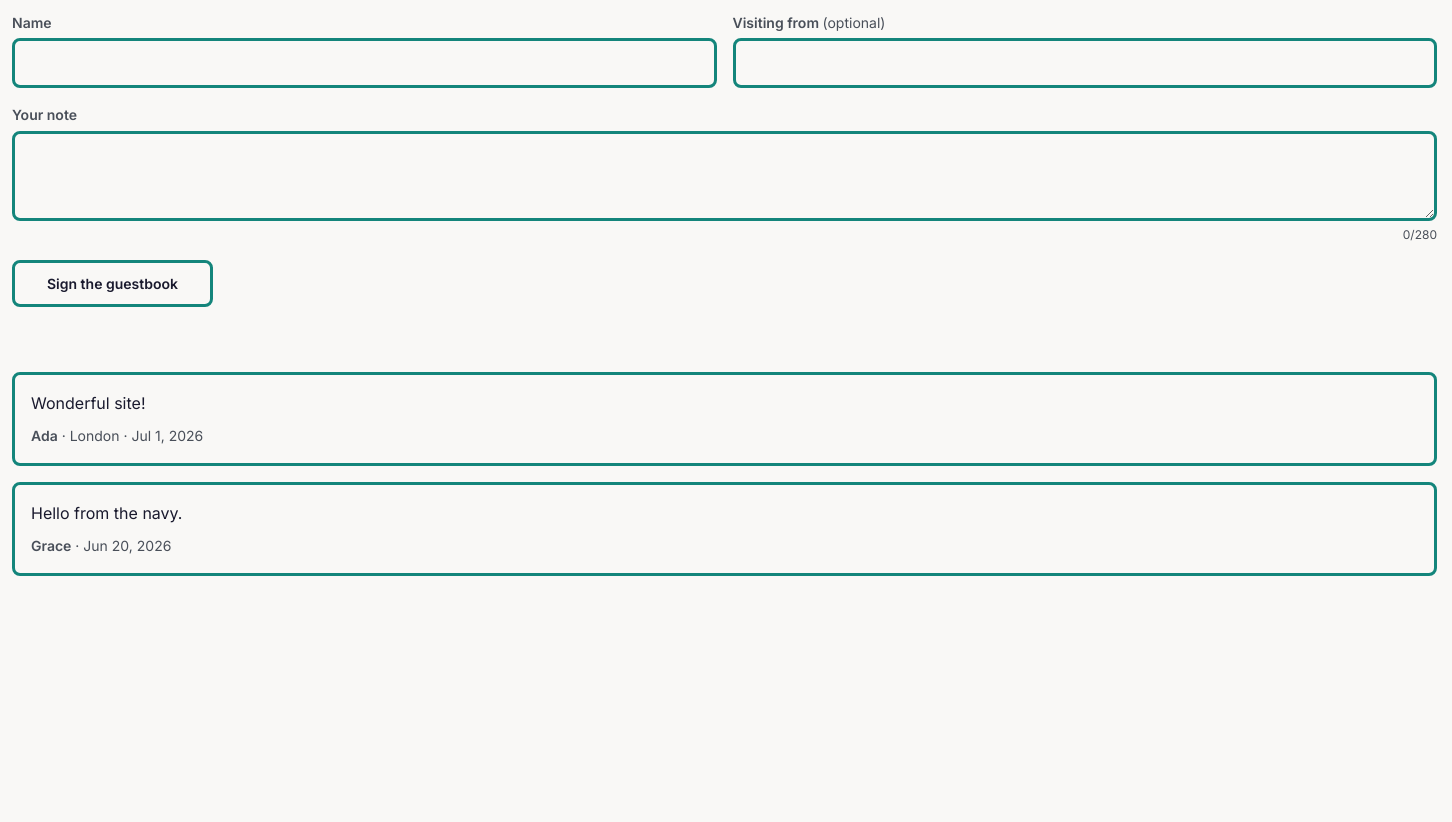
Guestbook › submits with the solved proof of work and an empty honeypot
Expected: the text "Wonderful site!" is shown, left=31, top=393, right=146, bottom=413
Step 1. Type "Paula Fan" into the field labelled "Name" → (364, 63), box left=12, top=38, right=716, bottom=88
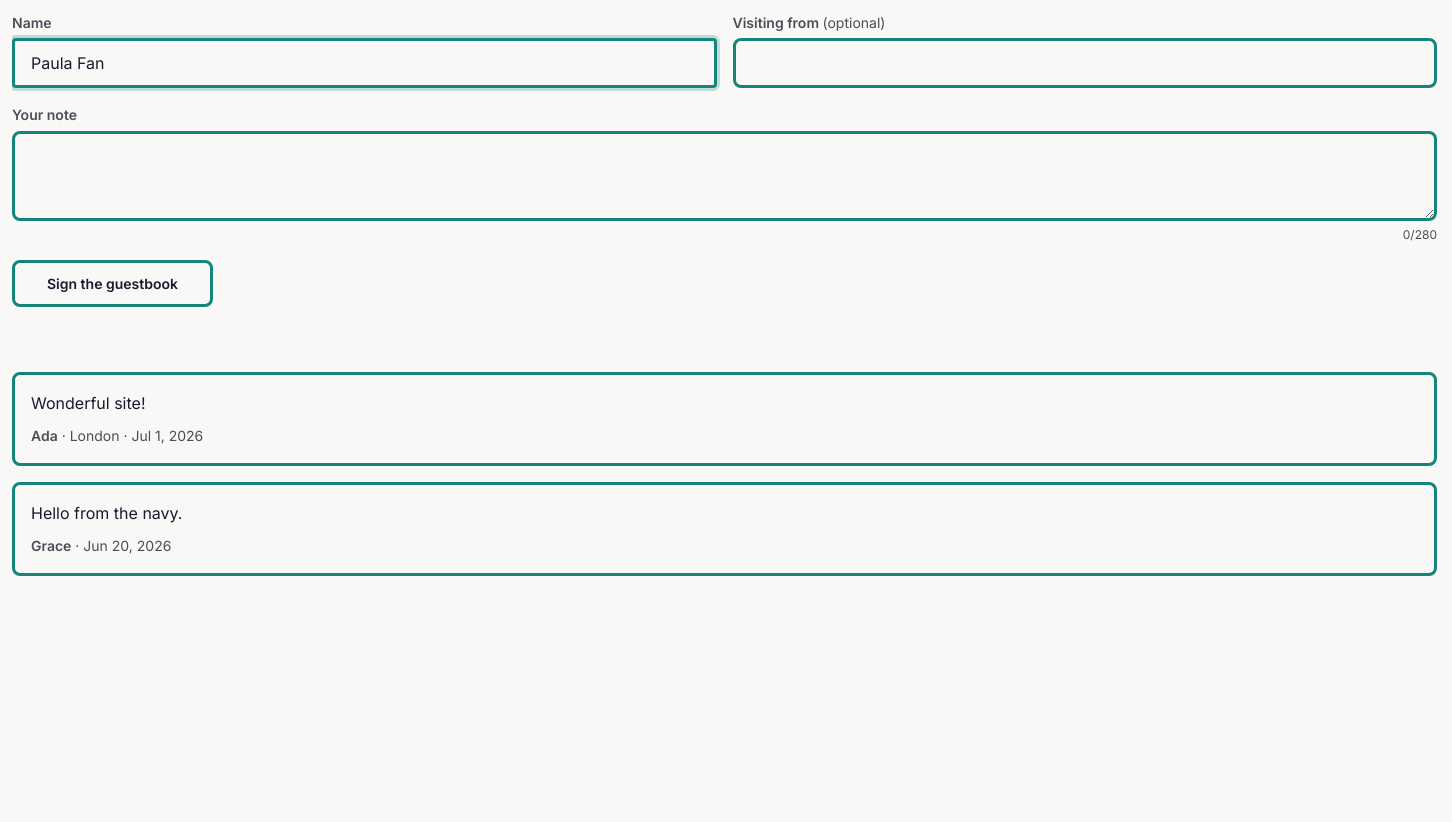
Step 2. Type "Really enjoyed the writing here." into the text box labelled "Your note" → (724, 176), box left=12, top=131, right=1437, bottom=221
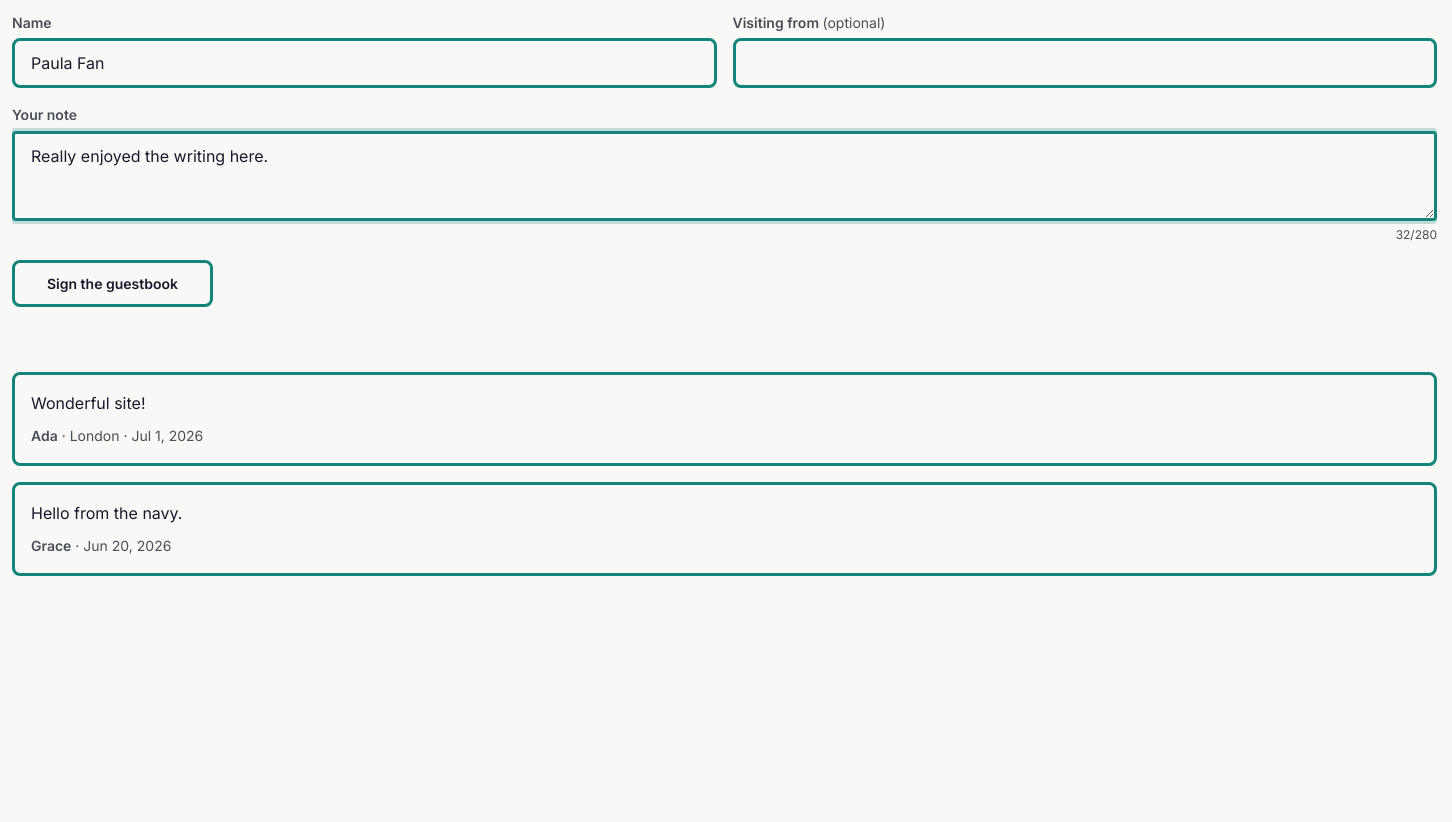
Step 3. Click the button "Sign the guestbook" → (112, 284), box left=12, top=260, right=213, bottom=307
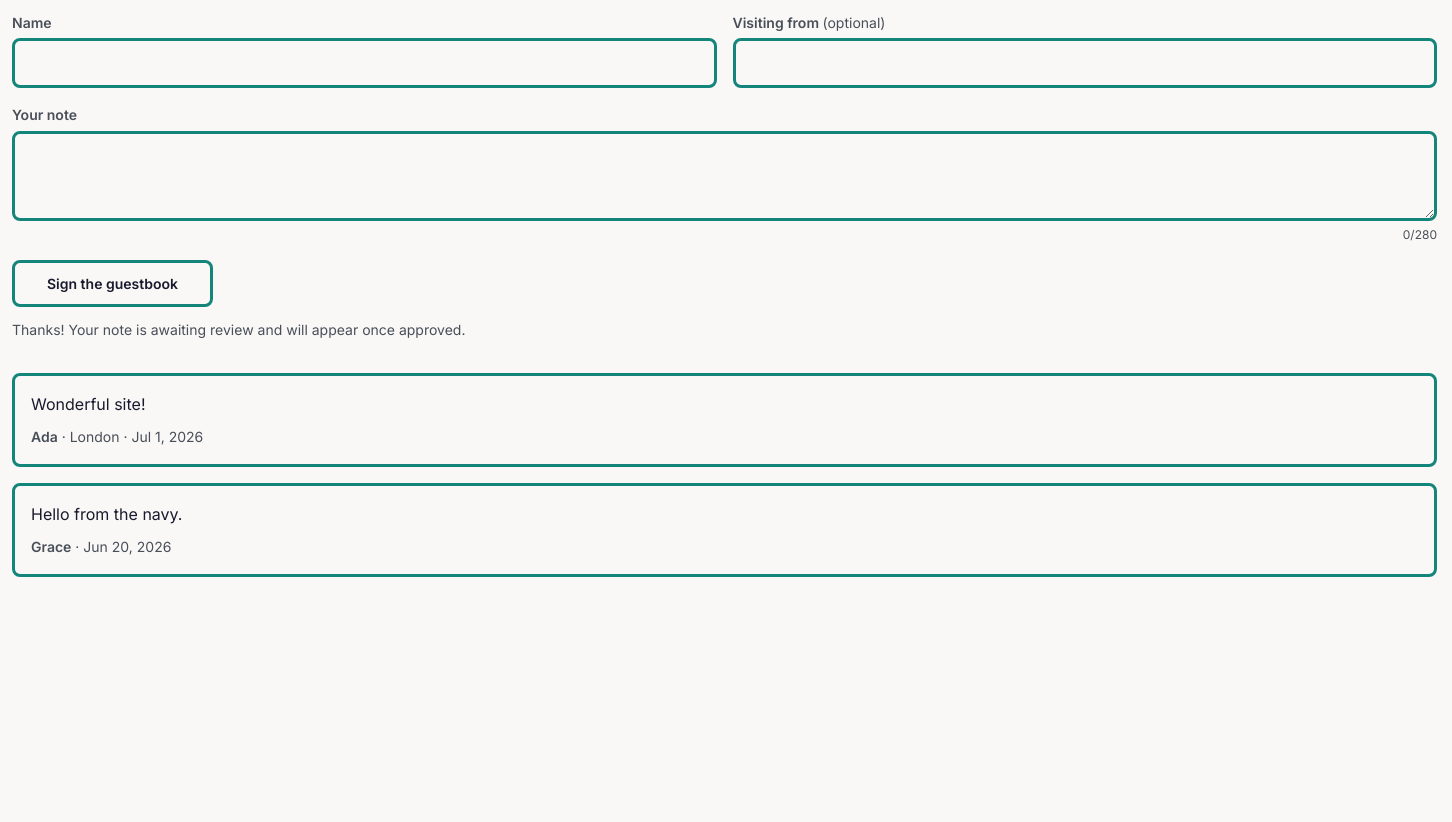
Expected: the text "Thanks! Your note is awaiting review and will appear once approved." is shown, left=12, top=321, right=465, bottom=338
